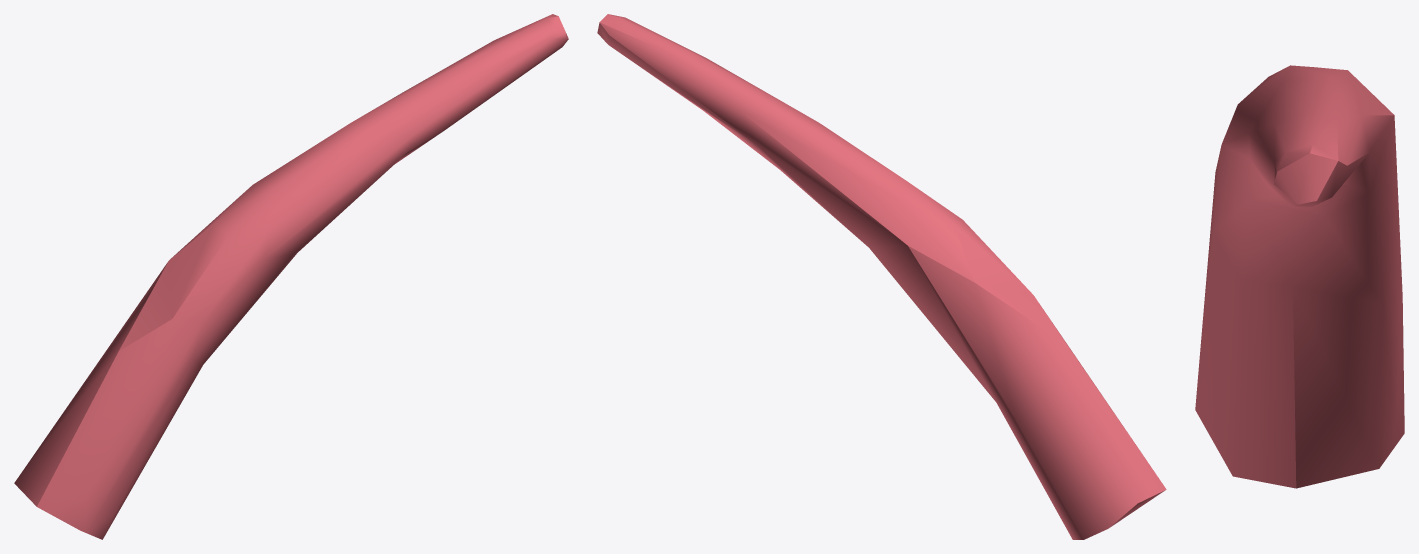
File: fma8642_fj2890.glb
3 renders of one model, left to right at view 1: azimuth 30°, elevation 25°; view 2: azimuth 150°, elevation 25°; view 3: azimuth 270°, elevation 25°, orthographic. The views are drawn at different scales.
Visible parts, largest first — view 1: FMA8642_FJ2890; view 2: FMA8642_FJ2890; view 3: FMA8642_FJ2890.
Boxes of the visible parts, <box> form: FMA8642_FJ2890: <box>14,14,568,539</box>; FMA8642_FJ2890: <box>597,14,1166,539</box>; FMA8642_FJ2890: <box>1195,65,1404,488</box>.
Size of the model in its own units: 0.0212 by 0.0147 by 0.00353.
